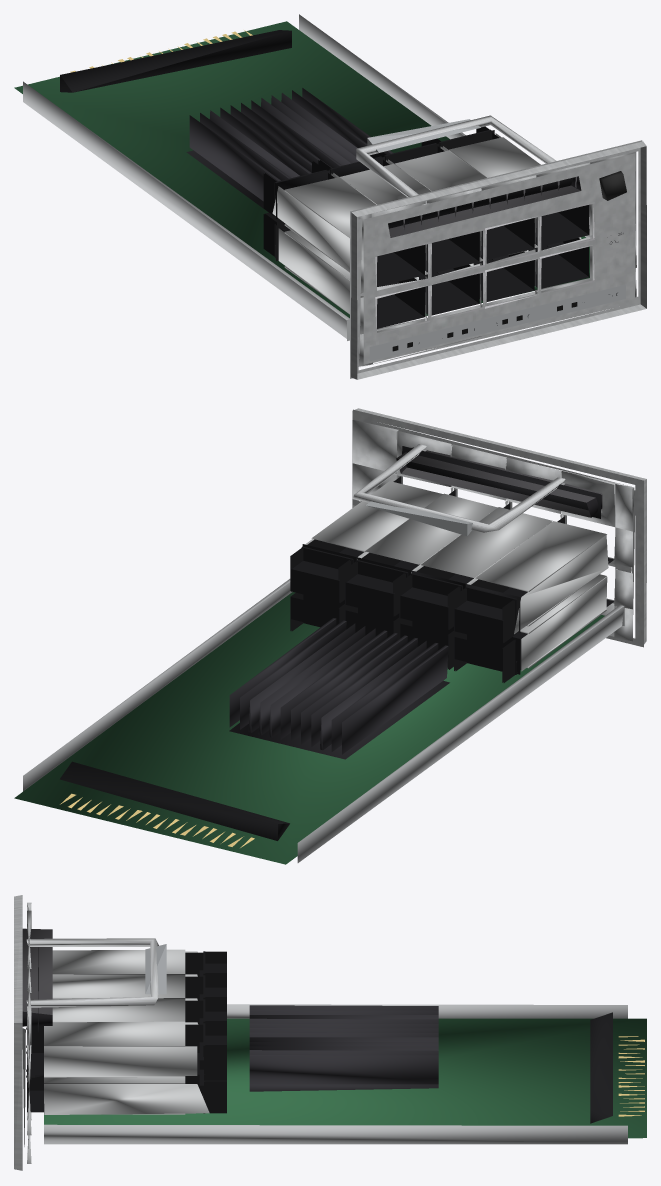
Rendered from C3850-NM-8-10G.far.glb.
3 views of the same model, one above another, from view 1: azimuth 30°, elevation 25°; view 2: azimuth 150°, elevation 25°; view 3: azimuth 270°, elevation 25° (orthographic). The views are drawn at different scales.
Visible parts, largest first — view 1: Body_far; view 2: Body_far; view 3: Body_far.
Boxes of the visible parts, box(x1,y1,x2,y2) form: Body_far: box(14, 14, 646, 379); Body_far: box(14, 408, 646, 864); Body_far: box(14, 895, 646, 1170).
Size of the model in its own units: 0.0802 by 0.0438 by 0.1672.
Materials: 5 (4 with a texture image).
